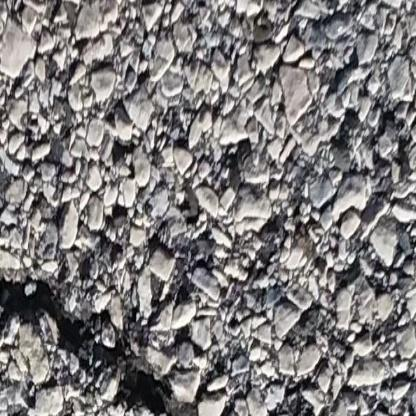Cracks: (0, 237, 216, 416)
